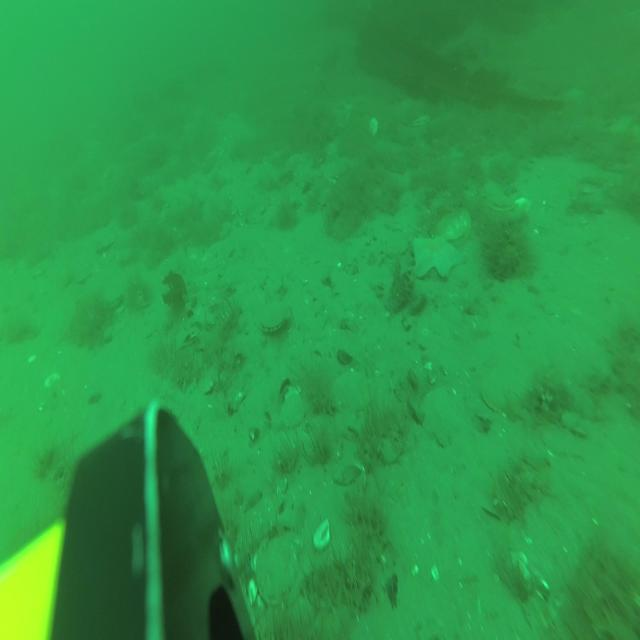scallop: (256, 526, 308, 602), (437, 207, 469, 245), (262, 297, 290, 336), (482, 182, 514, 212), (412, 113, 432, 128), (367, 115, 378, 139)
starfish: (409, 234, 466, 282)
